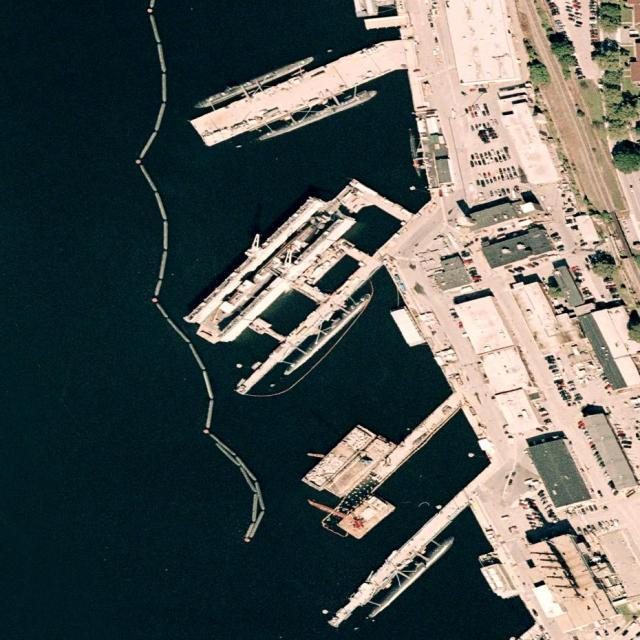Dock: (190, 34, 412, 147), (228, 253, 383, 402), (326, 488, 471, 630), (355, 392, 462, 500)
Submarine: (284, 293, 372, 377), (369, 535, 457, 619), (193, 55, 316, 110), (258, 88, 379, 142)
